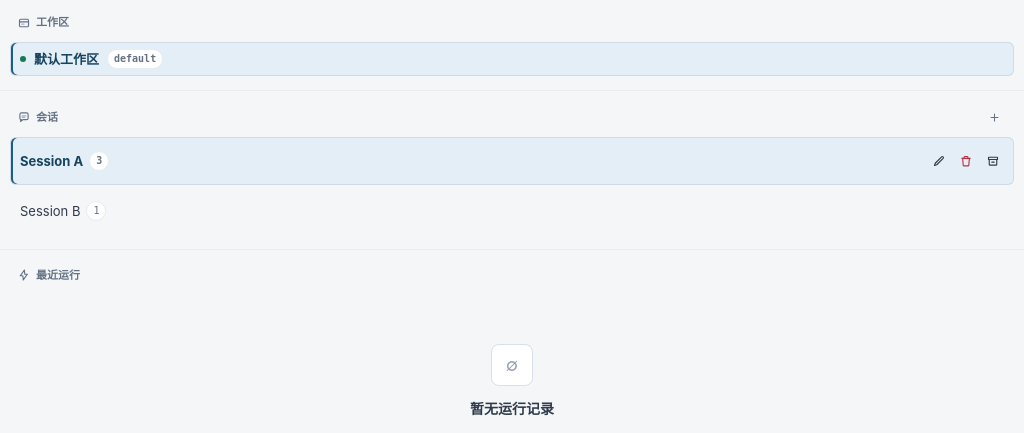
Test: Session switch › loads recent runs for the active session
Click the button with test id "sess-btn-sess-B" at (50, 211), box [20,201,918,221]
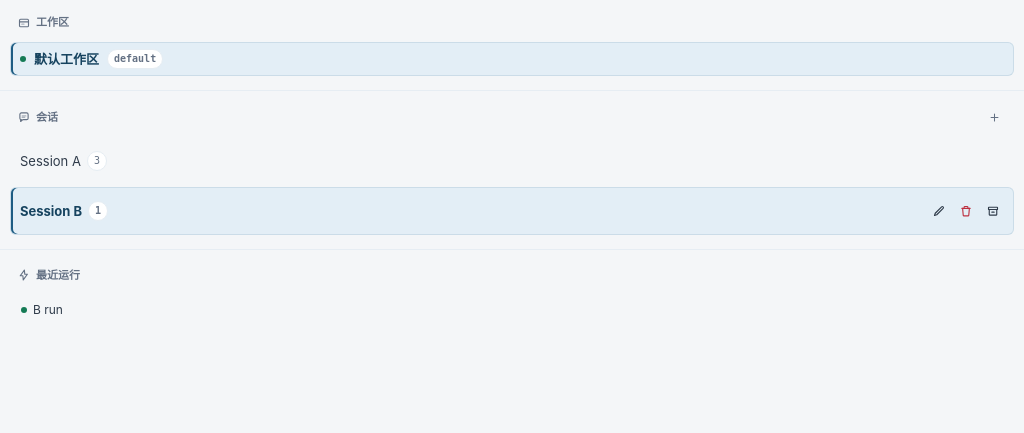
Expected: the text "B run" is shown, [33,302,63,318]
